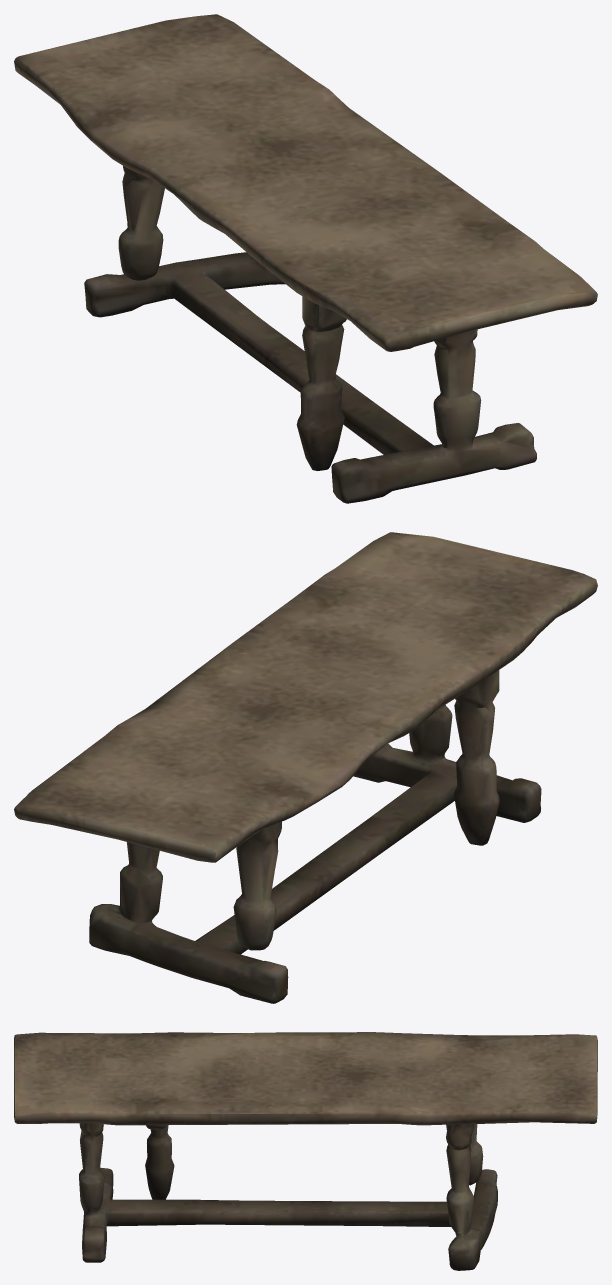
The model's file is simple-wood-banquet-table-v001.glb.
3 renders of one model, top to bottom at view 1: azimuth 30°, elevation 25°; view 2: azimuth 150°, elevation 25°; view 3: azimuth 270°, elevation 25°, orthographic. The views are drawn at different scales.
Parts seen in each view (by area): view 1: simple-wood-banquet-table; view 2: simple-wood-banquet-table; view 3: simple-wood-banquet-table.
Boxes of the visible parts, bbox=[...] form: simple-wood-banquet-table: bbox=[14, 14, 597, 503]; simple-wood-banquet-table: bbox=[14, 532, 597, 1003]; simple-wood-banquet-table: bbox=[14, 1032, 597, 1270].
Bounding box in the file's own units: 0.8729 × 0.7581 × 2.5.
Materials: 1 (1 with a texture image).
